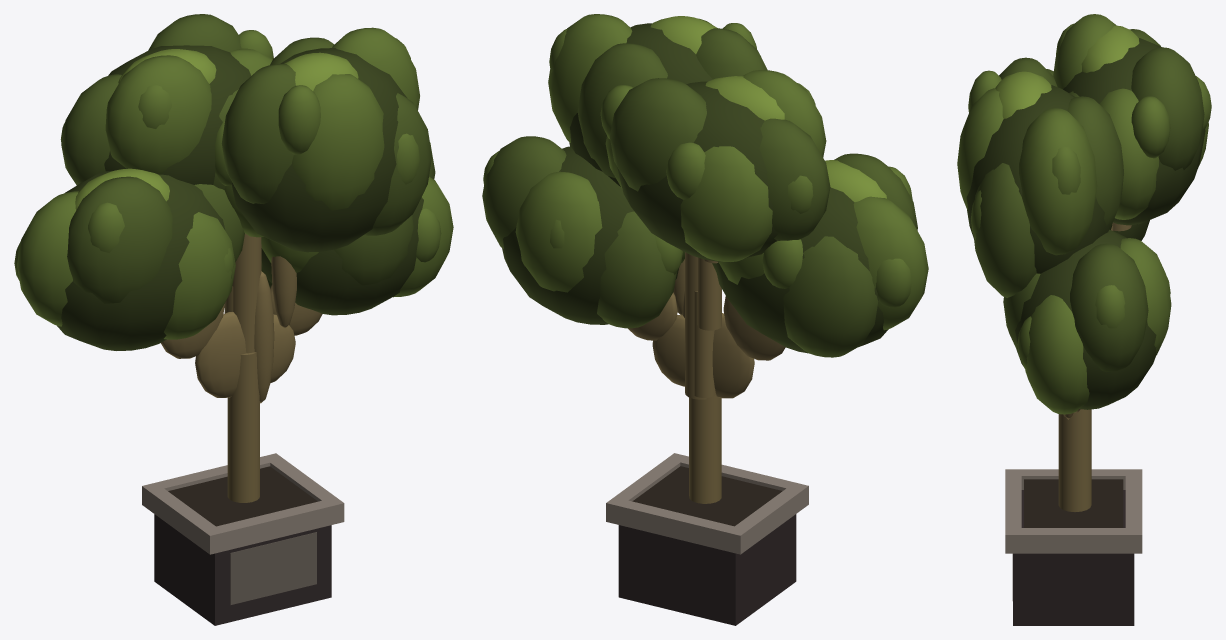
The model's file is CMU3DPottedPlant10.glb.
3 renders of one model, left to right at view 1: azimuth 30°, elevation 25°; view 2: azimuth 150°, elevation 25°; view 3: azimuth 270°, elevation 25°, orthographic.
Parts seen in each view (by area): view 1: rounded irregular leaf spray (×16), shadowed foliage core (×4), branch (×8), square pot base, fine leafy crown edge (×6), inset light-facing planter band, side rim (×2), recessed soil, front and back rim (×2), crown highlight (×3); view 2: rounded irregular leaf spray (×14), shadowed foliage core (×4), branch (×8), square pot base, fine leafy crown edge (×6), crown highlight (×3), side rim (×2), recessed soil, front and back rim (×2); view 3: rounded irregular leaf spray (×12), shadowed foliage core (×3), square pot base, fine leafy crown edge (×7), side rim (×2), recessed soil, branch, crown highlight (×2), front and back rim (×2).
Boxes of the visible parts, <box> form: rounded irregular leaf spray (×16): <box>16,14,453,339</box>; shadowed foliage core (×4): <box>57,45,423,350</box>; branch (×8): <box>161,233,322,502</box>; square pot base: <box>154,514,331,625</box>; fine leafy crown edge (×6): <box>88,30,441,262</box>; inset light-facing planter band: <box>230,532,316,605</box>; side rim (×2): <box>142,453,344,554</box>; recessed soil: <box>168,466,317,526</box>; front and back rim (×2): <box>156,456,330,550</box>; crown highlight (×3): <box>75,49,358,209</box>; rounded irregular leaf spray (×14): <box>482,14,928,357</box>; shadowed foliage core (×4): <box>502,23,888,353</box>; branch (×8): <box>628,252,785,503</box>; square pot base: <box>618,514,796,625</box>; fine leafy crown edge (×6): <box>600,85,911,307</box>; crown highlight (×3): <box>650,16,886,202</box>; side rim (×2): <box>606,453,808,554</box>; recessed soil: <box>632,466,782,526</box>; front and back rim (×2): <box>620,456,794,550</box>; rounded irregular leaf spray (×12): <box>957,14,1204,414</box>; shadowed foliage core (×3): <box>966,38,1205,409</box>; square pot base: <box>1013,490,1134,625</box>; fine leafy crown edge (×7): <box>968,70,1211,369</box>; side rim (×2): <box>1005,469,1142,553</box>; recessed soil: <box>1024,479,1123,527</box>; branch: <box>1058,409,1091,511</box>; crown highlight (×2): <box>995,25,1139,118</box>; front and back rim (×2): <box>1005,476,1142,527</box>.
Bounding box in the file's own units: 0.8967 × 1.09 × 0.4646.
